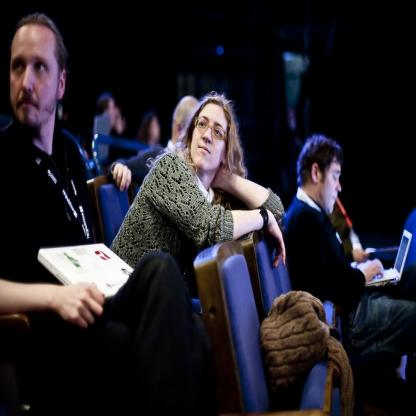board: (38, 243, 135, 301), (364, 228, 412, 284)
